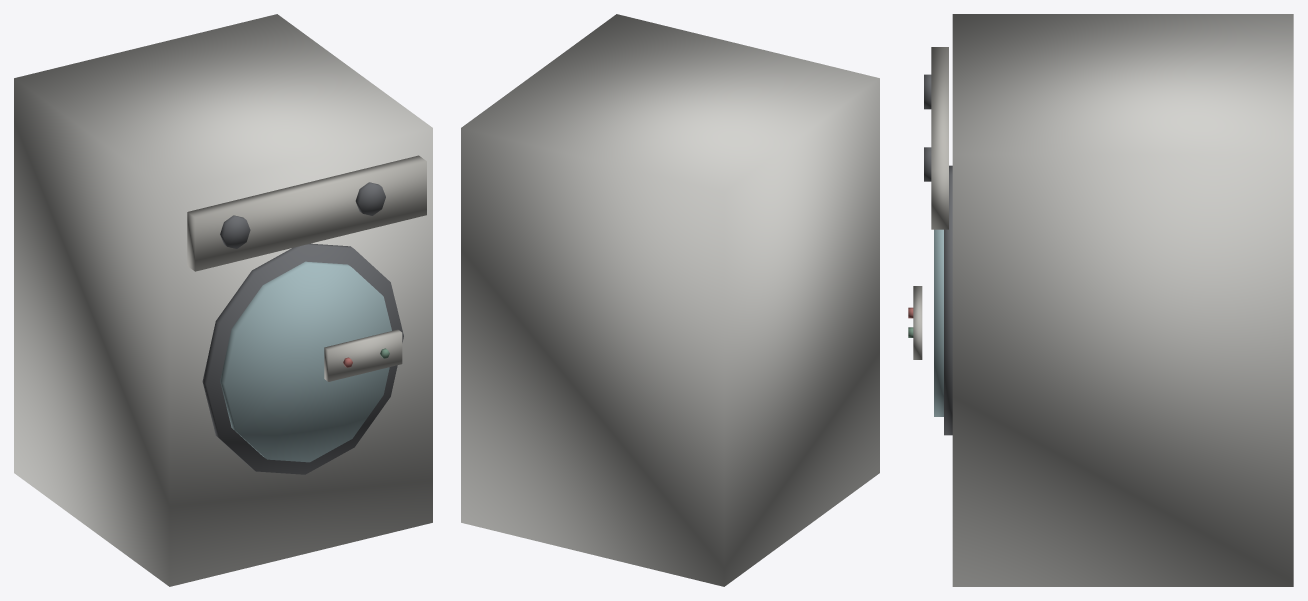
The model's file is domestic_washer__compact.glb.
3 views of the same model, side by side, from view 1: azimuth 30°, elevation 25°; view 2: azimuth 150°, elevation 25°; view 3: azimuth 270°, elevation 25° (orthographic). The views are drawn at different scales.
Parts seen in each view (by area): view 1: world; view 2: world; view 3: world.
Boxes of the visible parts, x1,y1,x2,y2 form: world: (14,14,432,586); world: (461,14,879,586); world: (908,14,1293,586).
Size of the model in its own units: 0.5712 by 0.8184 by 0.6609.
